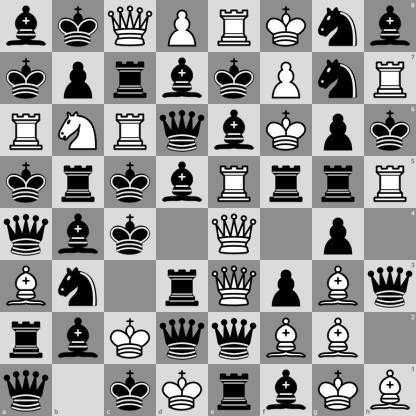B: (364, 364, 416, 416), (1, 261, 52, 312), (261, 313, 312, 364), (313, 261, 364, 312), (313, 313, 364, 364)
K: (156, 364, 209, 416), (312, 364, 364, 416), (105, 313, 156, 364), (261, 1, 312, 52), (261, 105, 312, 156)
N: (53, 105, 104, 156)
P: (157, 1, 208, 52), (261, 53, 312, 104)
Q: (105, 1, 156, 52), (209, 209, 260, 260), (209, 261, 260, 312)
R: (364, 156, 416, 209), (364, 52, 416, 104), (1, 105, 52, 156), (105, 105, 156, 156), (209, 1, 260, 52), (209, 157, 260, 208)
b: (260, 364, 312, 416), (364, 0, 416, 52), (1, 1, 52, 52), (53, 209, 104, 260), (53, 313, 104, 364), (157, 53, 208, 104), (157, 157, 208, 208), (209, 105, 260, 156)
board: (0, 0, 415, 415)
k: (104, 364, 156, 416), (364, 104, 416, 156), (1, 53, 52, 104), (1, 157, 52, 208), (53, 1, 104, 52), (105, 157, 156, 208), (105, 209, 156, 260), (209, 53, 260, 104)
n: (53, 261, 104, 312), (313, 1, 364, 52), (313, 53, 364, 104)
p: (53, 53, 104, 104), (261, 261, 312, 312), (313, 105, 364, 156), (313, 209, 364, 260)
q: (0, 364, 52, 416), (364, 260, 416, 312), (1, 209, 52, 260), (157, 105, 208, 156), (157, 313, 208, 364), (209, 313, 260, 364)
r: (209, 364, 260, 416), (1, 313, 52, 364), (53, 157, 104, 208), (105, 53, 156, 104), (157, 261, 208, 312), (261, 157, 312, 208), (313, 157, 364, 208)
